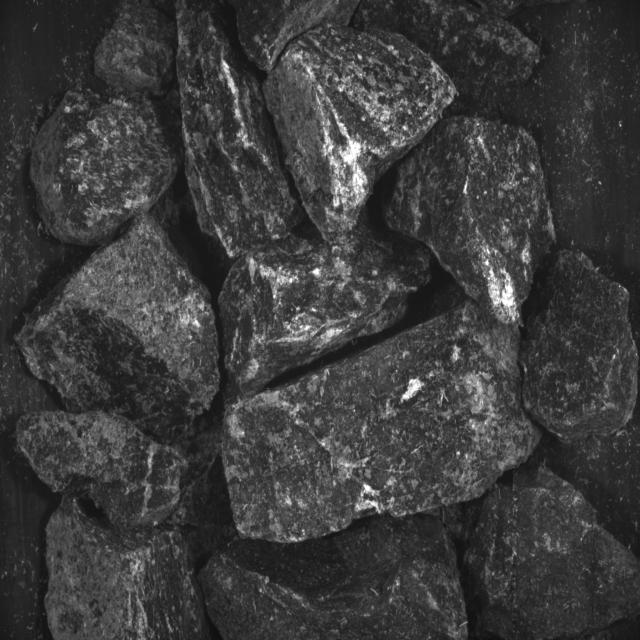Stones: (224, 302, 541, 544), (17, 218, 221, 444), (265, 25, 457, 240), (220, 221, 432, 401), (385, 118, 556, 325), (201, 517, 469, 640), (177, 1, 302, 259), (465, 468, 640, 640), (17, 412, 234, 529), (31, 91, 184, 246), (46, 498, 210, 640), (522, 253, 639, 444), (354, 1, 541, 118), (234, 1, 360, 72), (95, 7, 176, 98)
